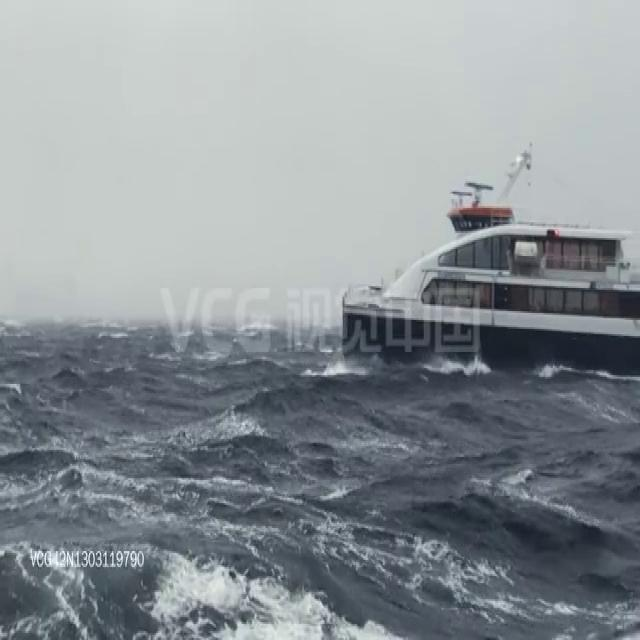passenger ship: (341, 160, 640, 377)
